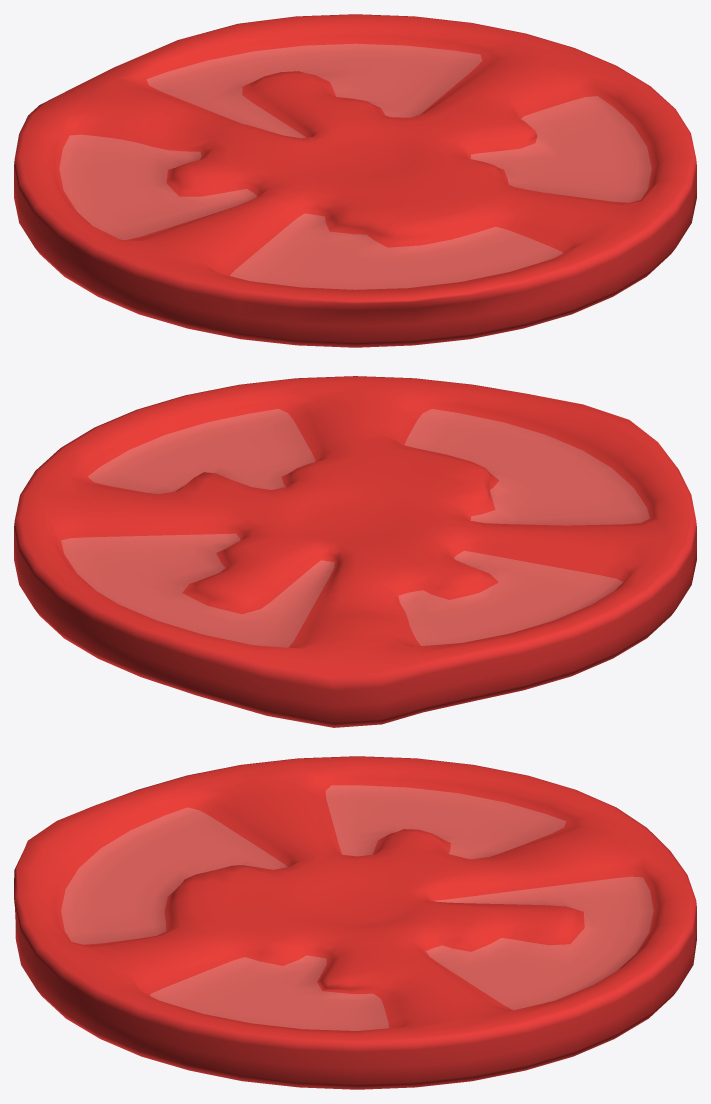
The model's file is tomatoFINAL.fbx.
3 views of the same model, one above another, from view 1: azimuth 30°, elevation 25°; view 2: azimuth 150°, elevation 25°; view 3: azimuth 270°, elevation 25° (orthographic).
Visible parts, largest first — view 1: Circle; view 2: Circle; view 3: Circle.
Part boxes in pixels (left/top/right/bottom): Circle: left=14, top=14, right=696, bottom=347; Circle: left=14, top=376, right=696, bottom=727; Circle: left=14, top=756, right=696, bottom=1089.
Size of the model in its own units: 308 by 34.31 by 308.
